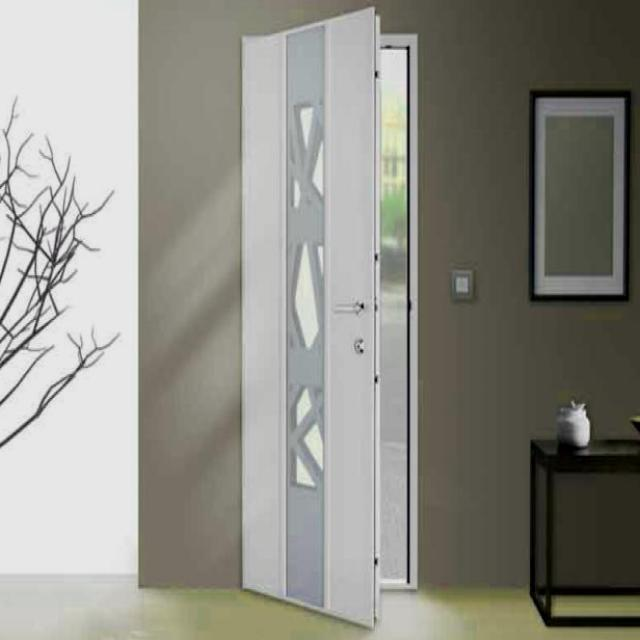door: (239, 5, 380, 629)
